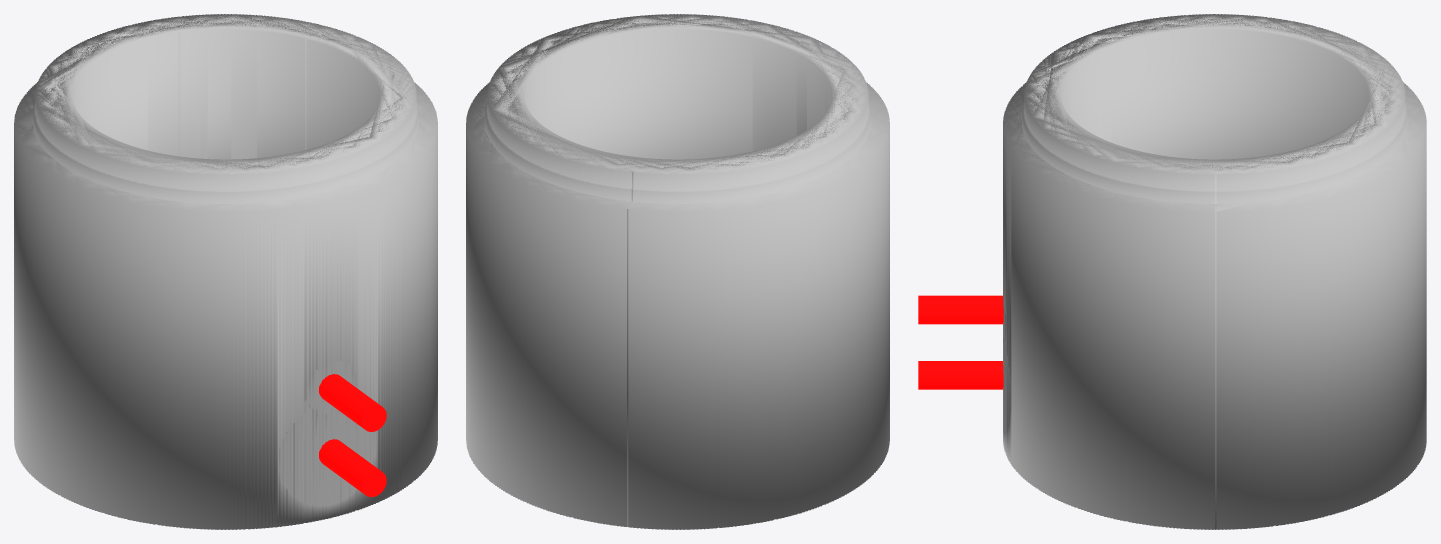
Rendered from LOT129_8b4f0944.glb.
3 views of the same model, side by side, from view 1: azimuth 30°, elevation 25°; view 2: azimuth 150°, elevation 25°; view 3: azimuth 270°, elevation 25° (orthographic).
Parts seen in each view (by area): view 1: 1200x1.219r_Obj, Cylinder.001, Cylinder.003; view 2: 1200x1.219r_Obj; view 3: 1200x1.219r_Obj, Cylinder.003, Cylinder.001.
Part boxes in pixels (x1,y1,x2,y2): 1200x1.219r_Obj: [14, 14, 437, 529]; Cylinder.001: [319, 439, 386, 497]; Cylinder.003: [319, 374, 386, 431]; 1200x1.219r_Obj: [466, 14, 889, 529]; 1200x1.219r_Obj: [1003, 14, 1426, 529]; Cylinder.003: [918, 295, 1003, 324]; Cylinder.001: [918, 361, 1003, 389].
Size of the model in its own units: 1.47 by 1.33 by 1.77.
